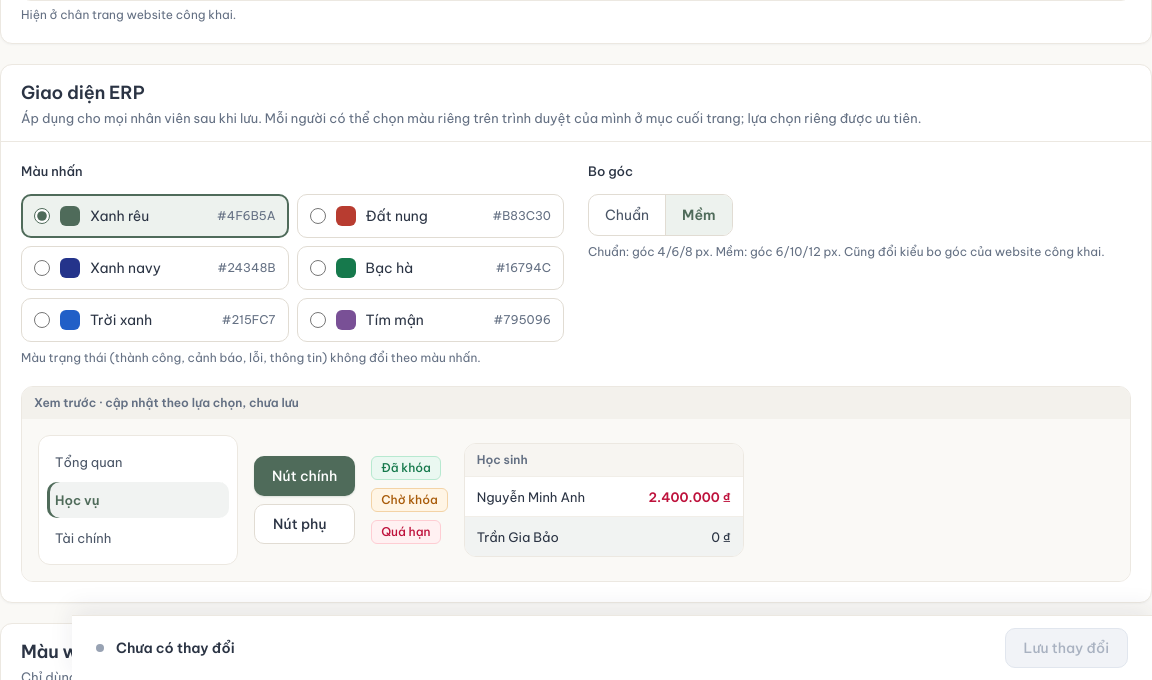
Test case: branding page › restores the last saved values on Hủy
This screenshot has width=1152, height=680.
(page scrolled)
Click the radio button labelled "Tím mận #795096": {"x": 318, "y": 320} [310,312,326,328]
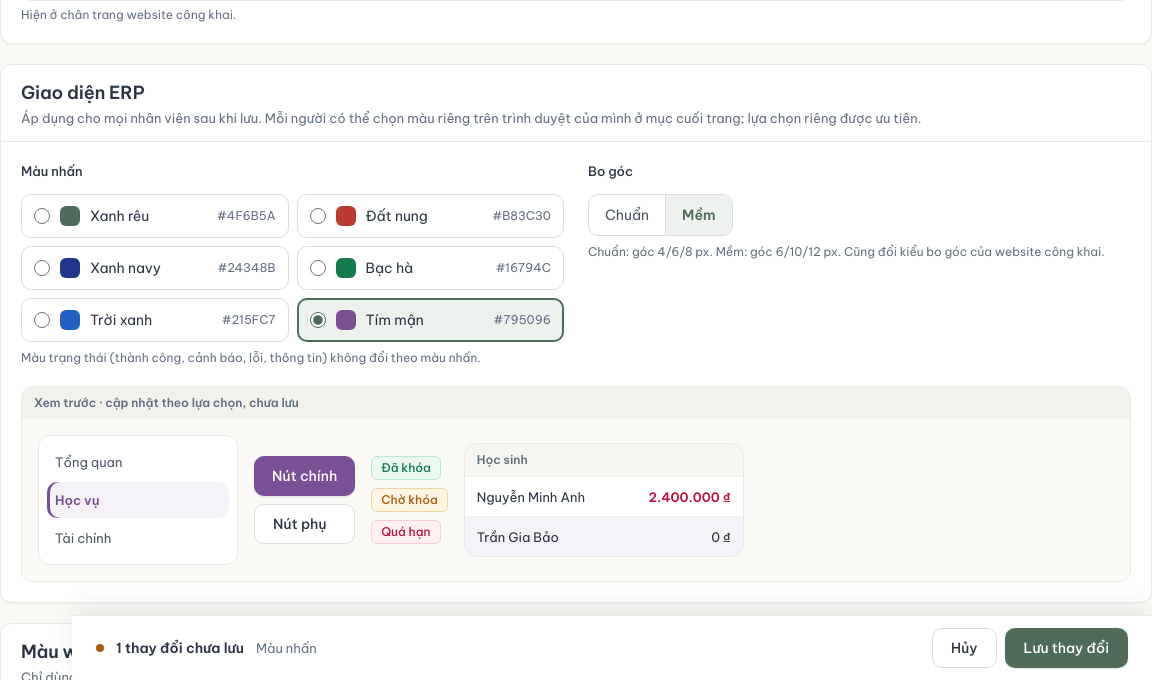
Click the button "Hủy": {"x": 964, "y": 648} [932,628,997,668]
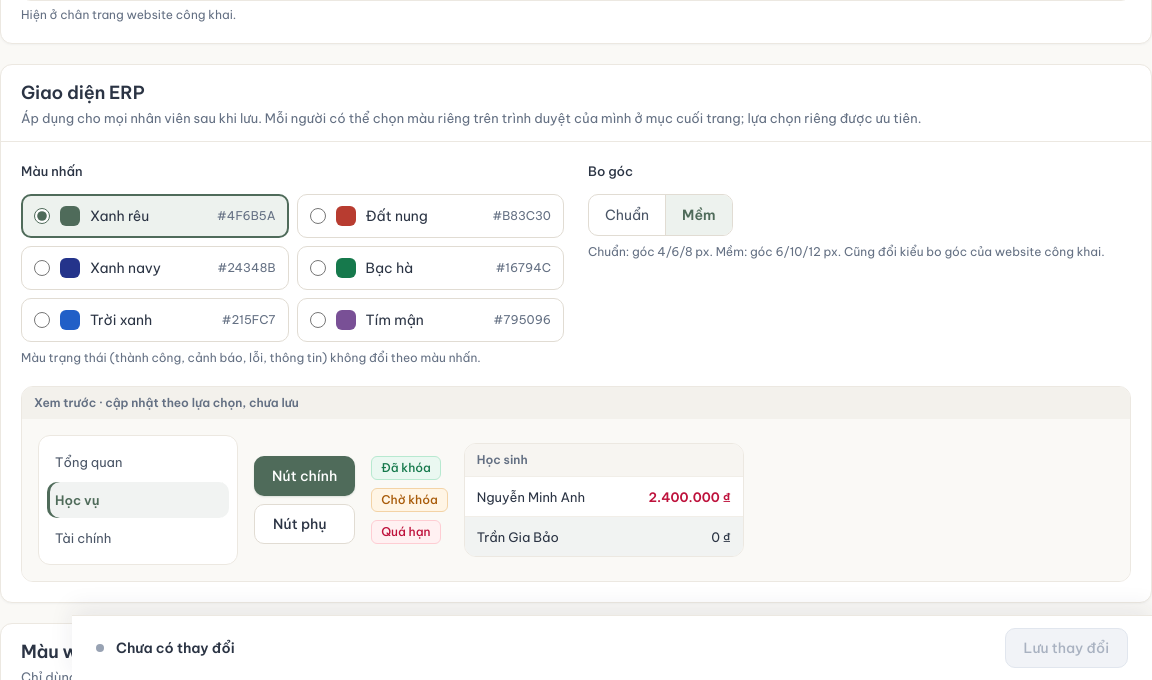
Expected: the radio button labelled "Xanh rêu #4F6B5A" is checked, [34,208,50,224]
Expected: the element named "Thanh lưu thay đổi" shows "Chưa có thay đổi", [116,639,235,657]
Expected: the button "Hủy" is gone
